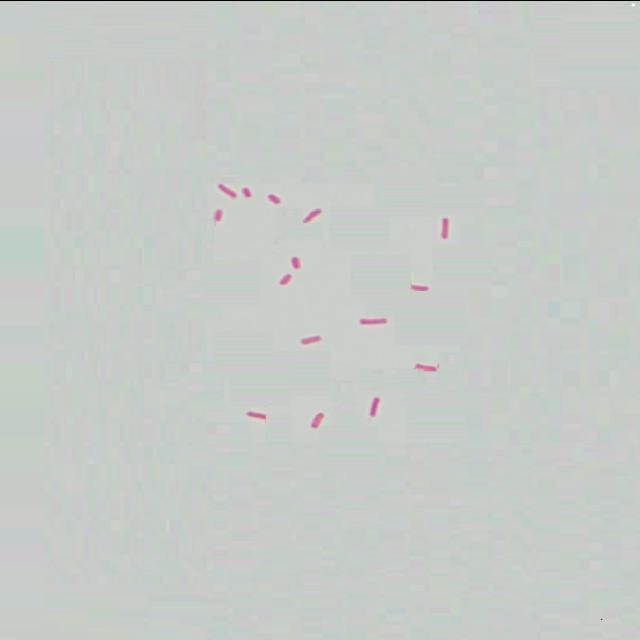E-coli: (297, 329, 325, 347), (356, 315, 393, 328), (412, 360, 444, 374), (303, 205, 327, 223), (307, 411, 329, 430), (213, 181, 237, 197), (367, 394, 383, 417), (436, 217, 452, 239), (244, 407, 268, 421), (285, 254, 307, 269), (408, 281, 433, 294), (208, 207, 228, 223), (239, 182, 257, 197), (279, 270, 295, 284), (268, 193, 284, 204)
